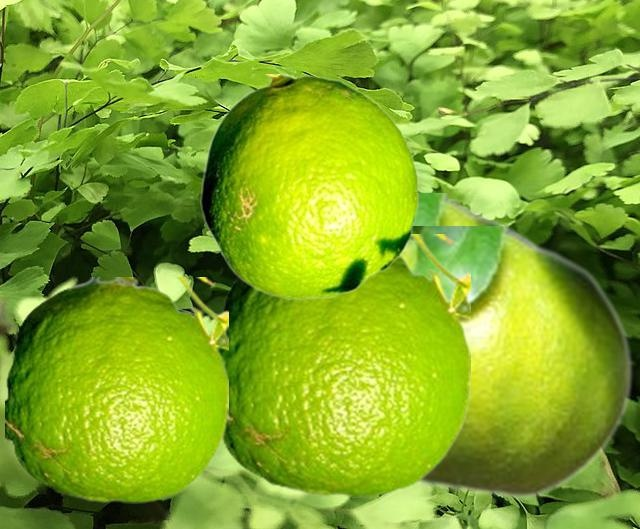dalandan: (219, 234, 469, 496), (404, 226, 633, 499), (5, 277, 227, 502), (200, 74, 418, 299), (416, 193, 542, 244)
